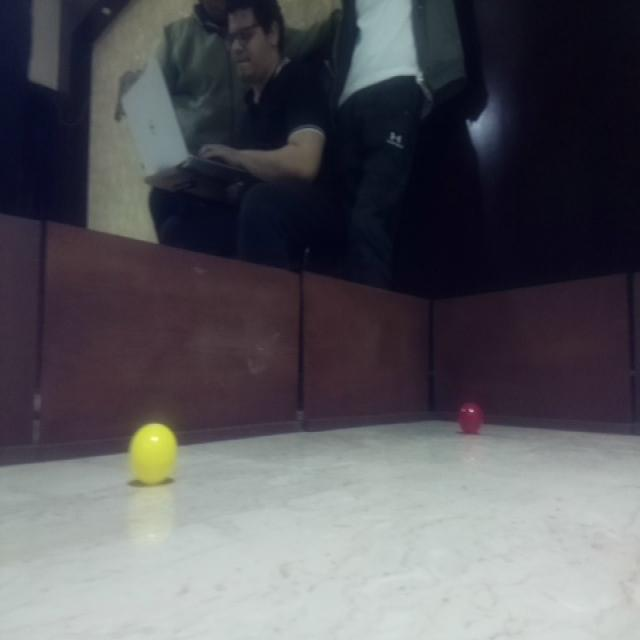ball: (129, 417, 178, 486), (459, 400, 487, 436)
